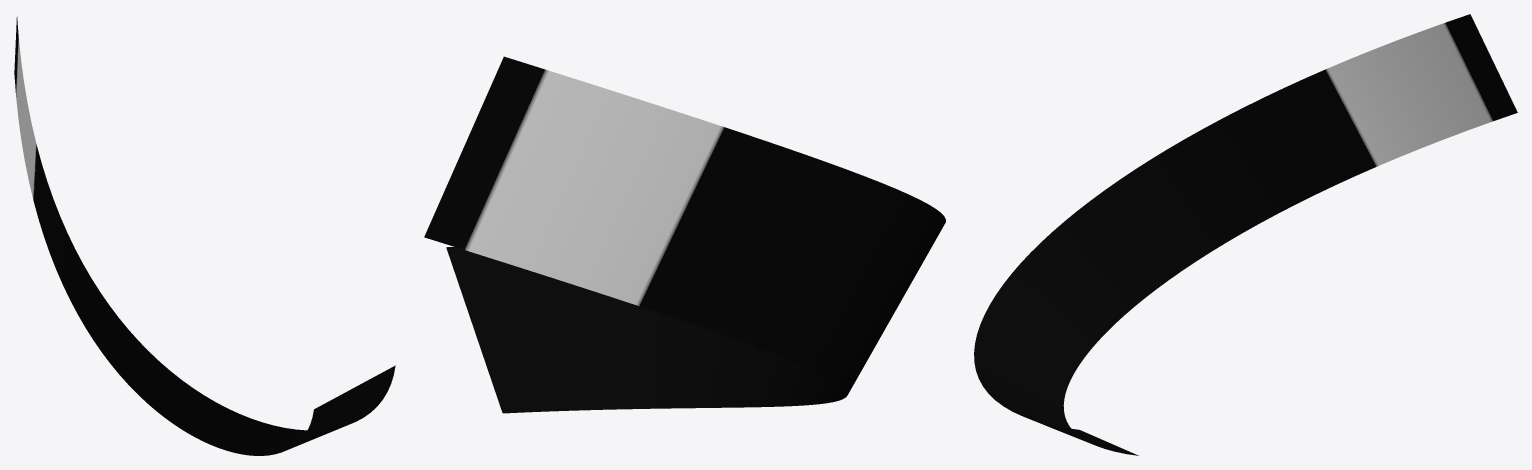
Rendered from enemy_slash_melee.fbx.
3 renders of one model, left to right at view 1: azimuth 30°, elevation 25°; view 2: azimuth 150°, elevation 25°; view 3: azimuth 270°, elevation 25°, orthographic. The views are drawn at different scales.
Visible parts, largest first — view 1: NurbsPath; view 2: NurbsPath; view 3: NurbsPath.
Boxes of the visible parts, <box> form: NurbsPath: <box>14,16,395,455</box>; NurbsPath: <box>424,56,945,413</box>; NurbsPath: <box>974,14,1517,455</box>.
Bounding box in the file's own units: 129 × 153 × 205.
